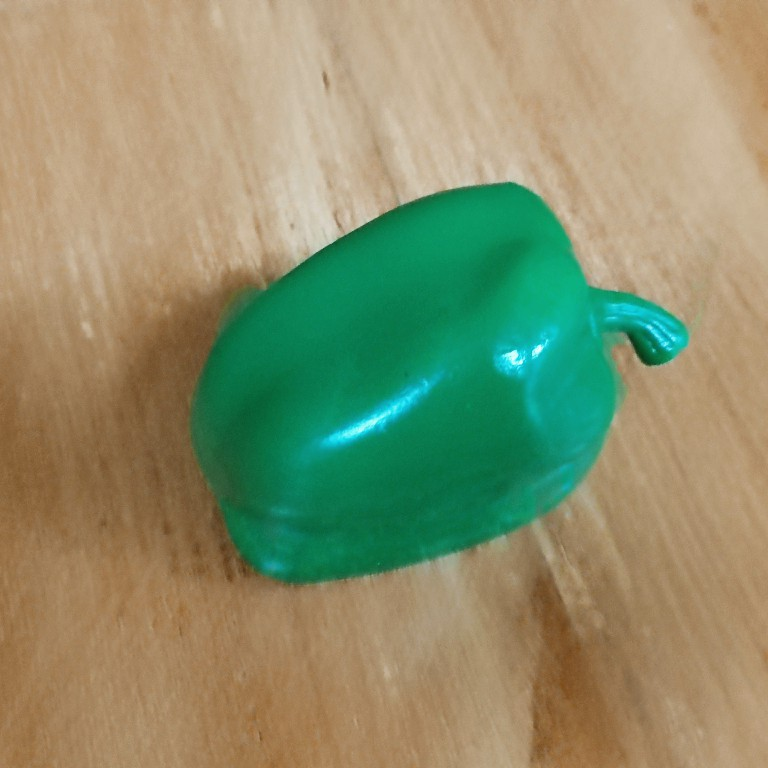fruit_pepper: (183, 176, 694, 591)
